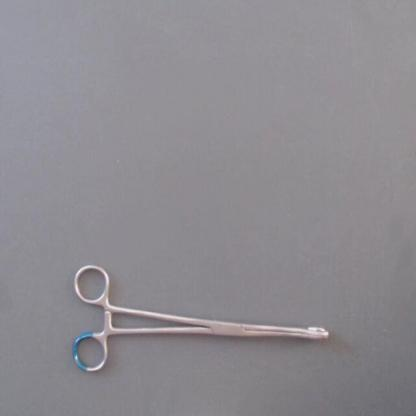Sponge Forceps: (64, 253, 340, 382)
